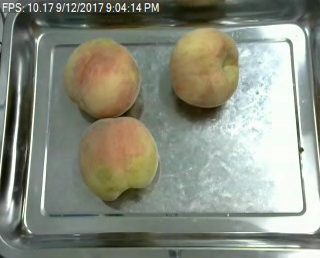Peach: (79, 116, 159, 200), (63, 37, 141, 116), (169, 27, 239, 108)
